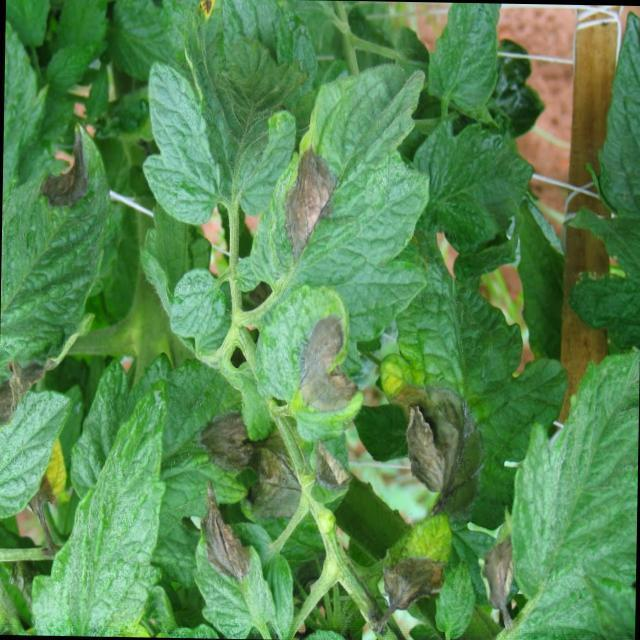Healthy Leaf: (51, 402, 166, 638), (406, 122, 532, 252), (134, 60, 228, 230), (167, 260, 226, 347)
